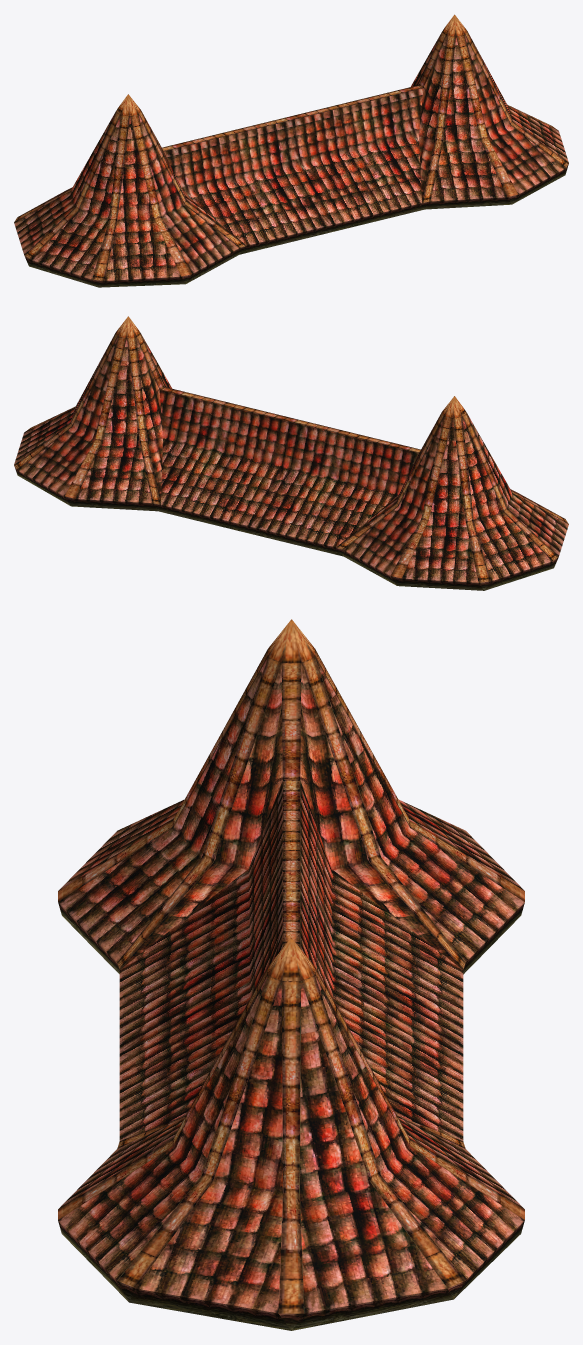
The picture shows the model from 3 angles, top to bottom: view 1: azimuth 30°, elevation 25°; view 2: azimuth 150°, elevation 25°; view 3: azimuth 270°, elevation 25°; orthographic projection. The views are drawn at different scales.
Parts seen in each view (by area): view 1: cc18; view 2: cc18; view 3: cc18.
Boxes of the visible parts, box(x1,y1,x2,y2) form: cc18: box(14, 14, 568, 287); cc18: box(14, 316, 568, 590); cc18: box(58, 619, 524, 1330).
Size of the model in its own units: 18.59 by 4.99 by 7.12.
Materials: 5 (5 with a texture image).
